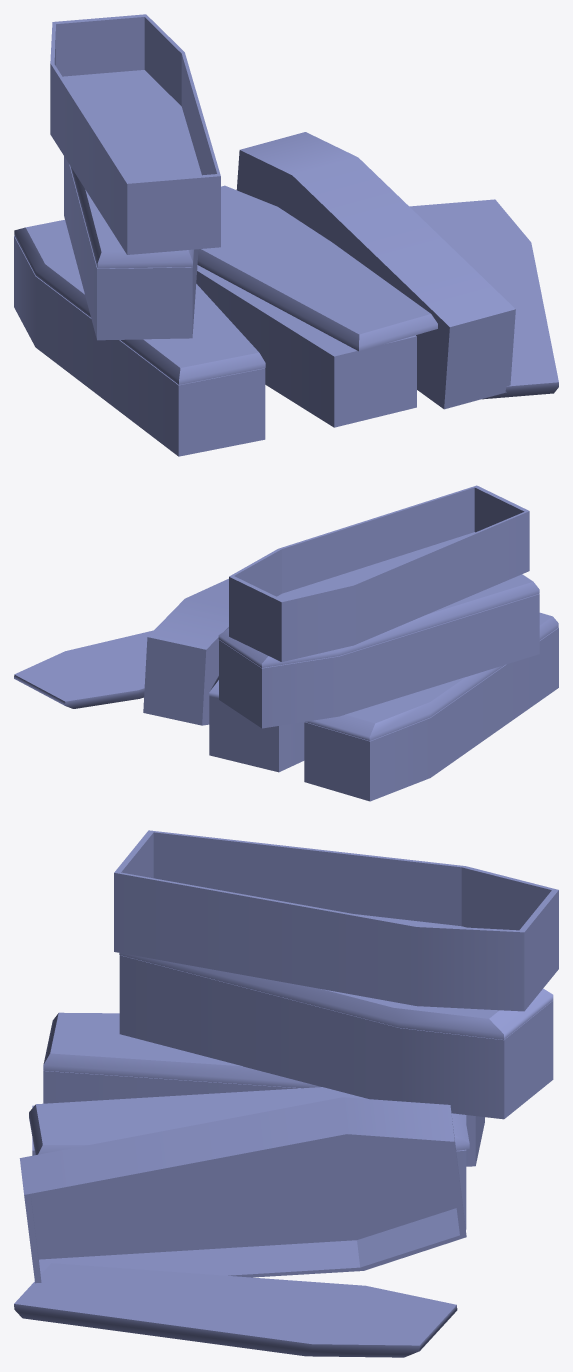
Rendered from Coffin_03A_Lod0.fbx.
The picture shows the model from 3 angles, top to bottom: view 1: azimuth 30°, elevation 25°; view 2: azimuth 150°, elevation 25°; view 3: azimuth 270°, elevation 25°; orthographic projection. The views are drawn at different scales.
Visible parts, largest first — view 1: Coffin_03A_Lod0; view 2: Coffin_03A_Lod0; view 3: Coffin_03A_Lod0.
Part boxes in pixels (box(x1,y1,x2,y2)): Coffin_03A_Lod0: box(14, 14, 558, 456); Coffin_03A_Lod0: box(14, 485, 558, 801); Coffin_03A_Lod0: box(14, 830, 558, 1357).
Bounding box in the file's own units: 259 × 125 × 215.
